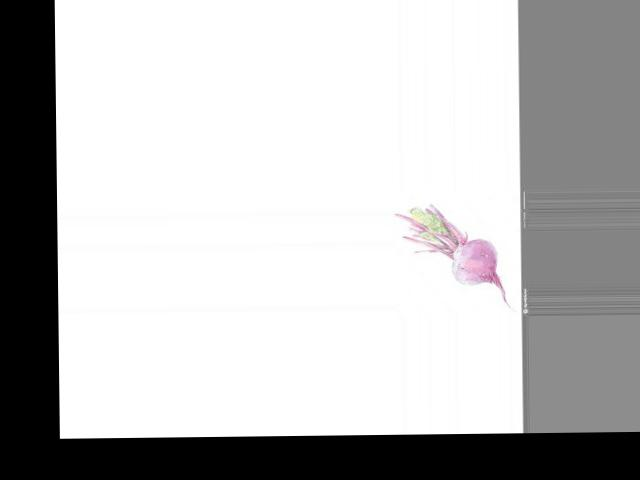beet: (393, 202, 515, 312)
